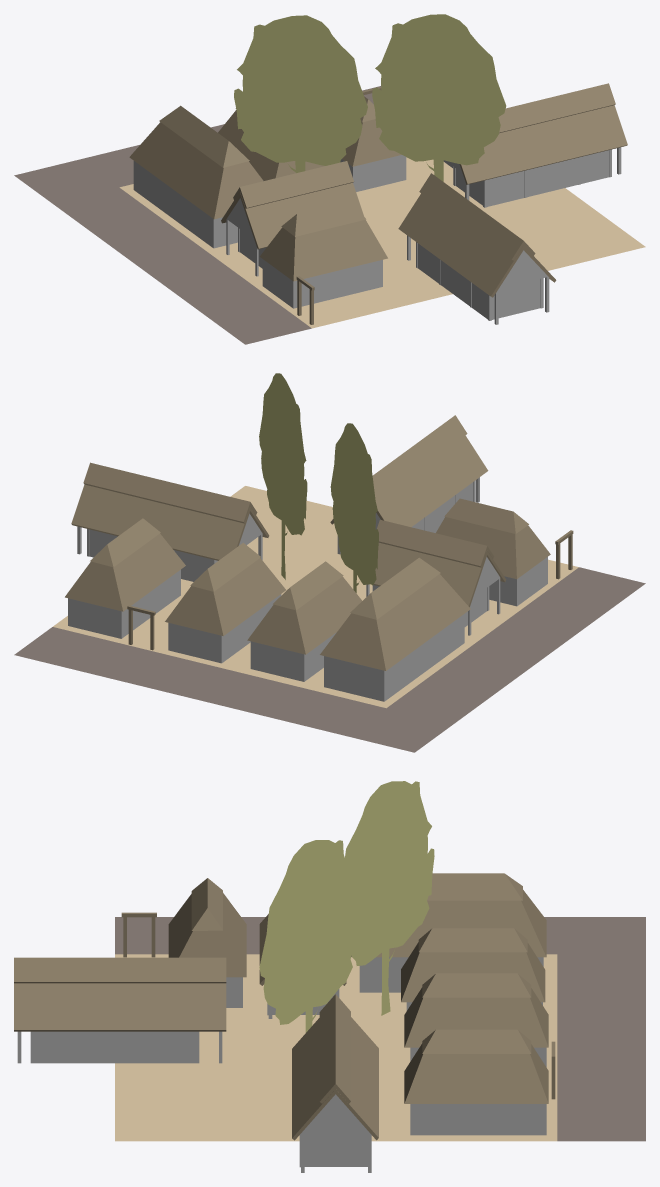
The picture shows the model from 3 angles, top to bottom: view 1: azimuth 30°, elevation 25°; view 2: azimuth 150°, elevation 25°; view 3: azimuth 270°, elevation 25°; orthographic projection. The views are drawn at different scales.
Parts seen in each view (by area): view 1: rr1r; view 2: rr1r; view 3: rr1r.
Boxes of the visible parts, x1,y1,x2,y2 form: rr1r: (14, 14, 645, 344); rr1r: (14, 373, 645, 752); rr1r: (14, 781, 645, 1172).
Bounding box in the file's own units: 34.42 × 14.41 × 35.7.
